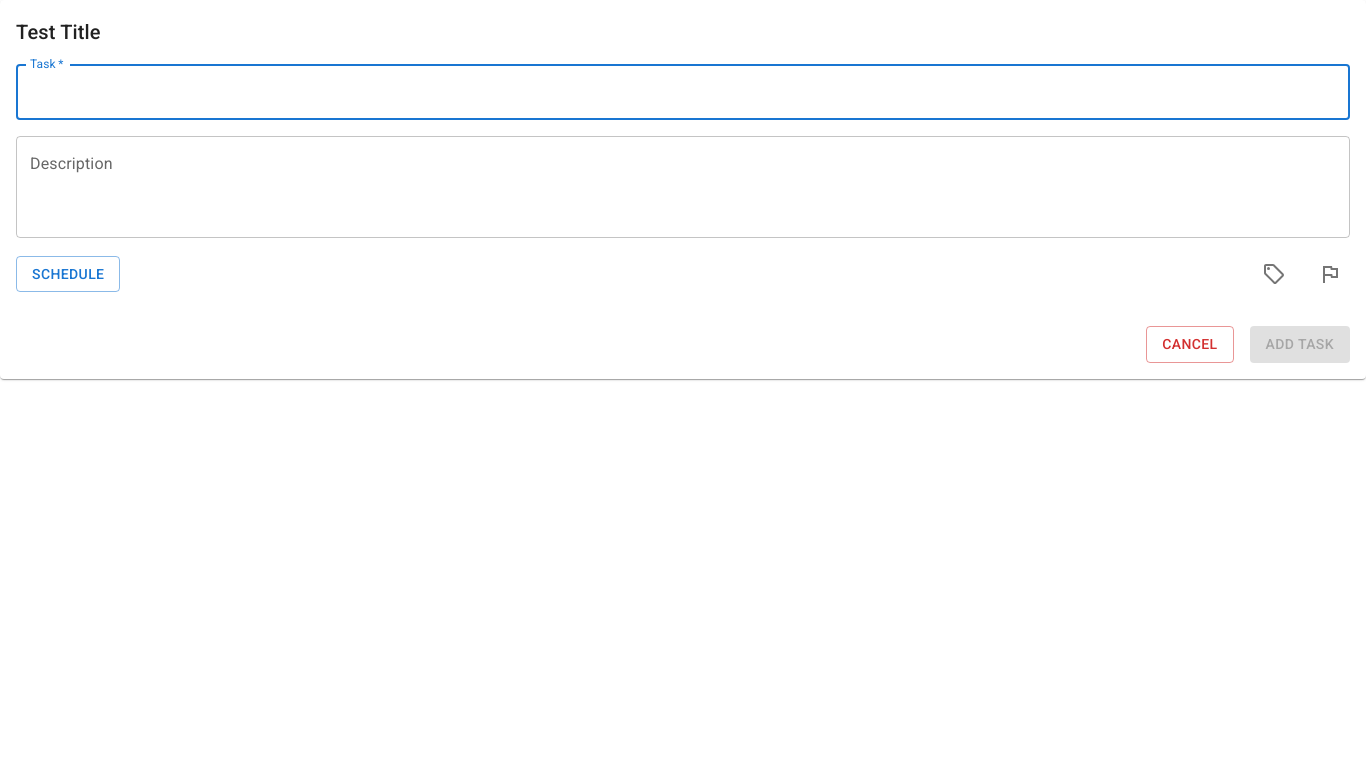
Test: TaskForm › supports adding and removing a priority level
The width and height of the screenshot is (1366, 768).
Note: clicking the priority button should open the priority popup
Step 1. Click the button named "set priority" → point(1330, 274), box [1310,254,1350,294]
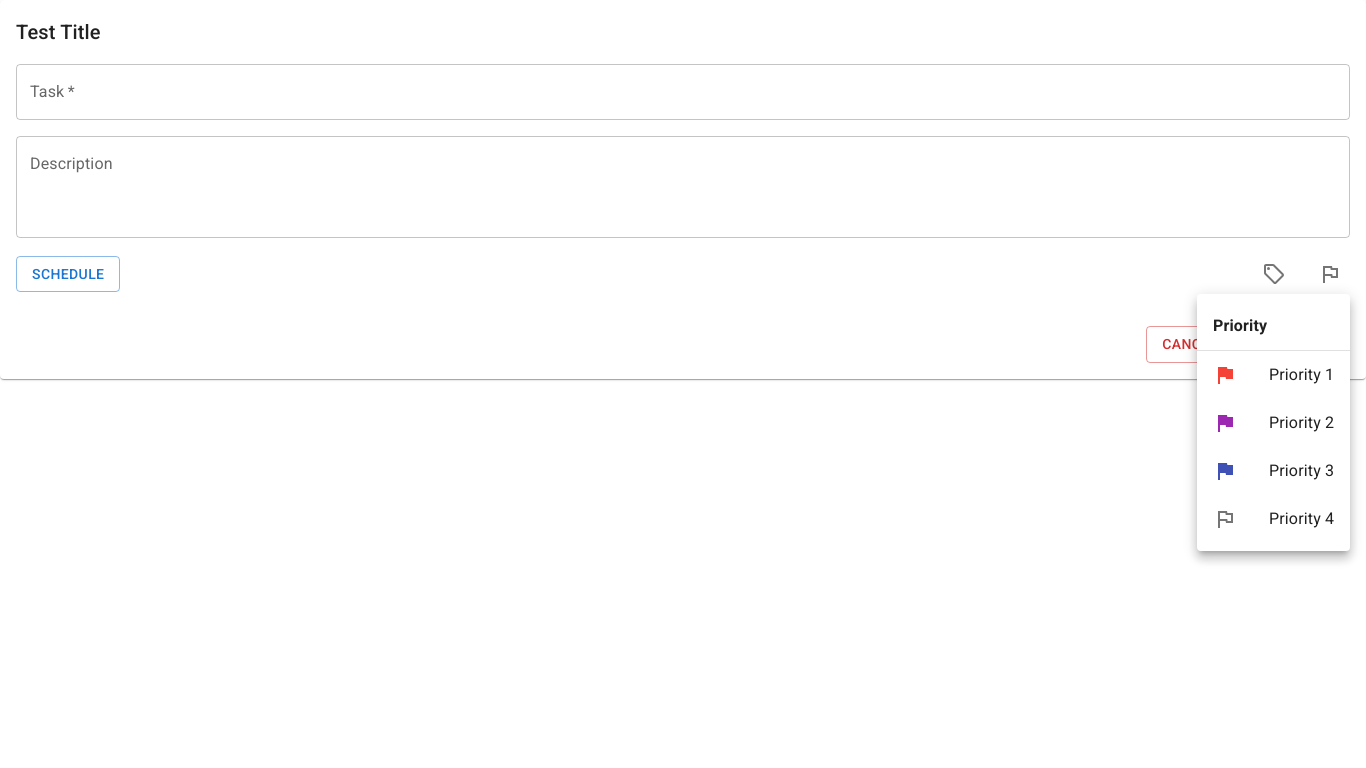
Expected: the element with test id "priority-popup" is shown, [1197,294,1350,551]
Note: clicking a new priority level option should close the priority popup and update the form data
Step 2. Click the button "Priority 1" → point(1274, 375), box [1213,363,1334,387]
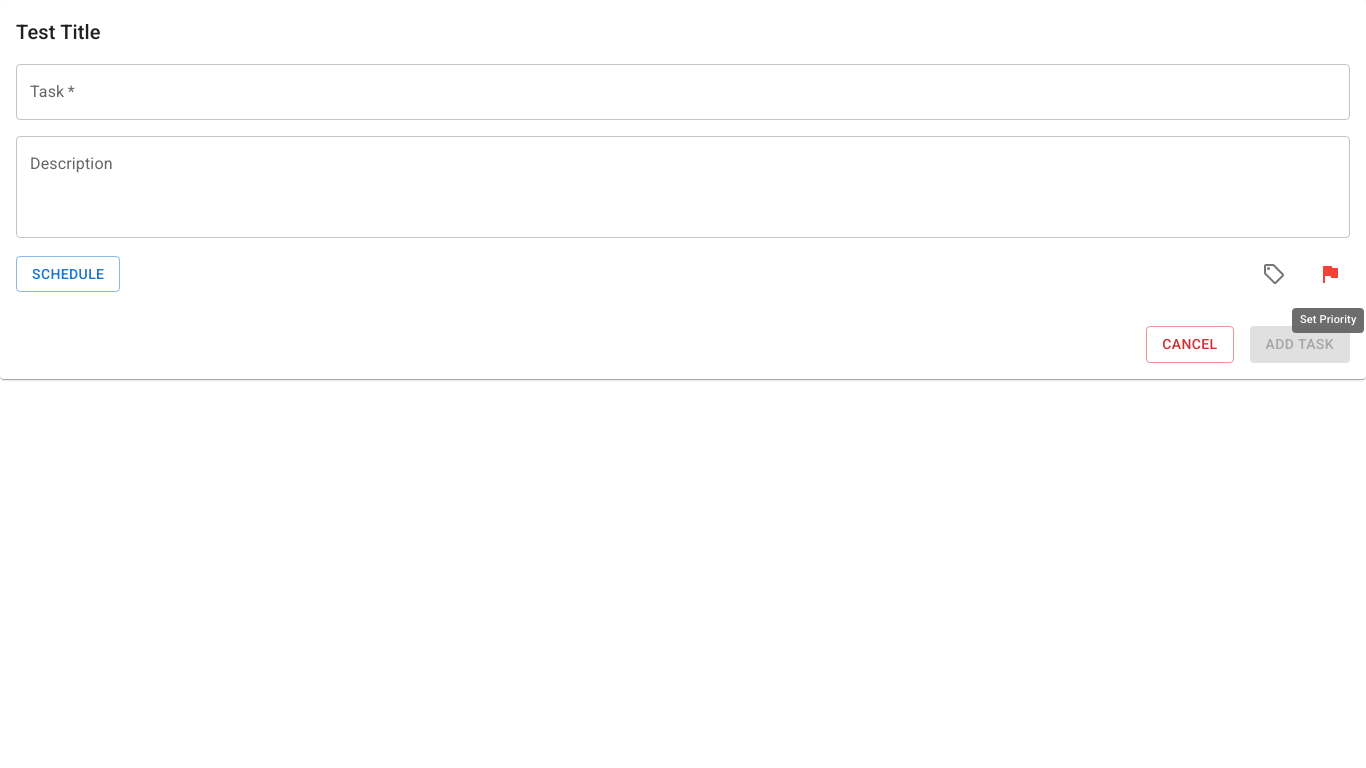
Expected: the element with test id "priority-popup" is gone
